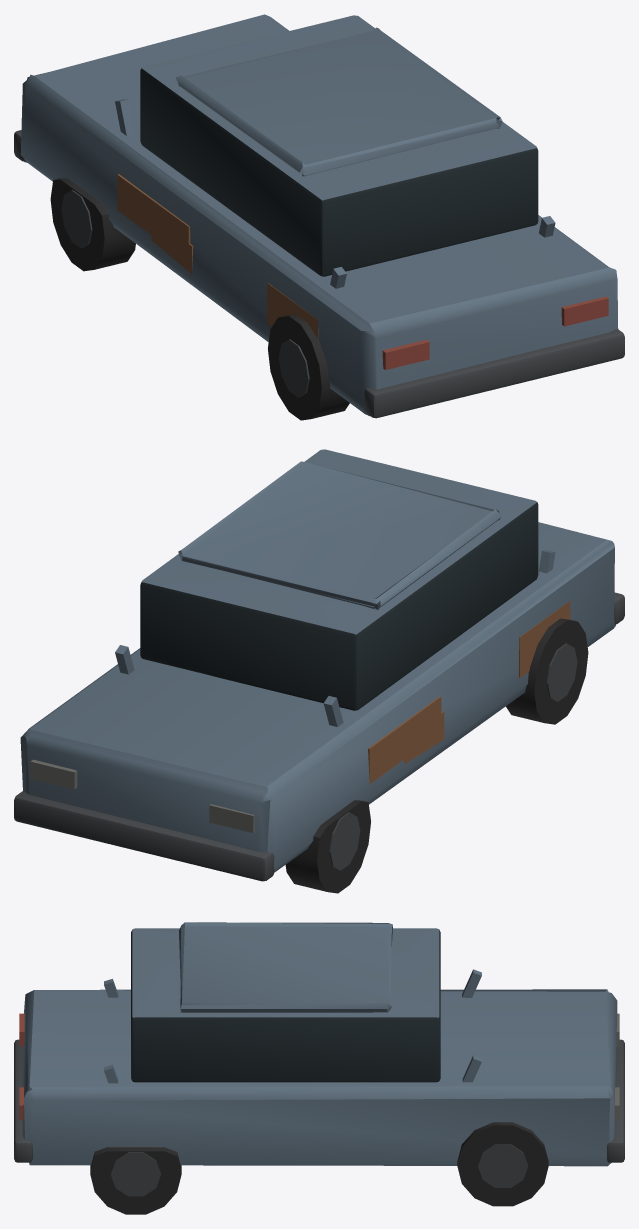
Rendered from ZR_Car_Sedan_Blue.fbx.
3 views of the same model, one above another, from view 1: azimuth 30°, elevation 25°; view 2: azimuth 150°, elevation 25°; view 3: azimuth 270°, elevation 25° (orthographic). The views are drawn at different scales.
Visible parts, largest first — view 1: ZR_Car_Sedan_Blue; view 2: ZR_Car_Sedan_Blue; view 3: ZR_Car_Sedan_Blue.
Part boxes in pixels (left/top/right/bottom): ZR_Car_Sedan_Blue: left=14, top=14, right=624, bottom=420; ZR_Car_Sedan_Blue: left=14, top=449, right=624, bottom=893; ZR_Car_Sedan_Blue: left=14, top=922, right=624, bottom=1214.
Size of the model in its own units: 1.95 by 1.62 by 4.54.
